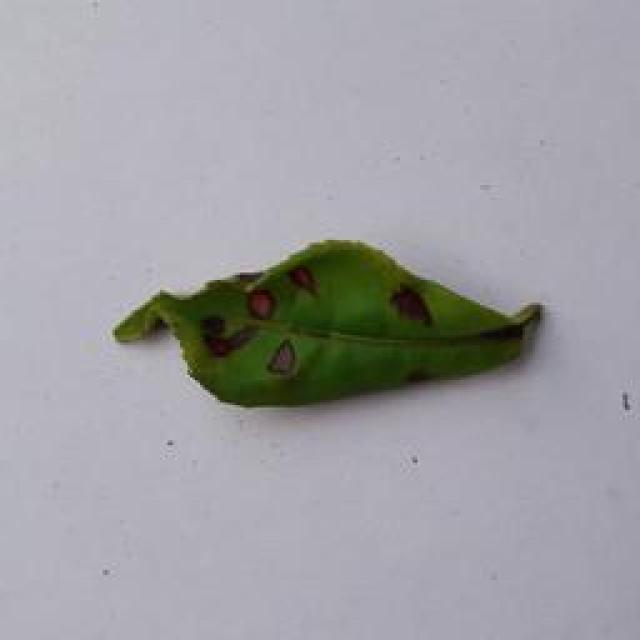Helopeltis: (103, 220, 570, 432)
